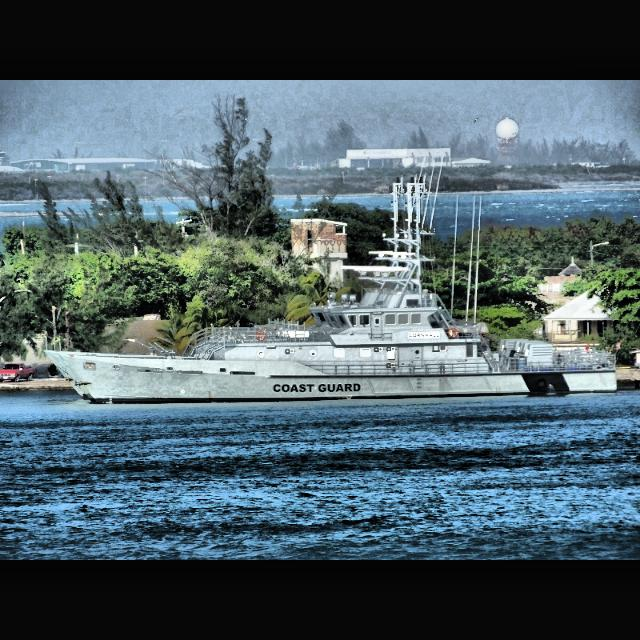patrol_vessel: (43, 176, 619, 407)
